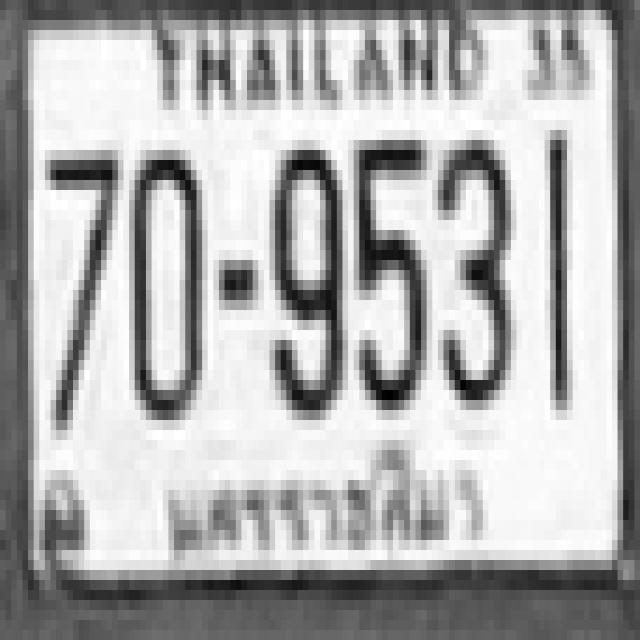0: (126, 140, 200, 410)
1: (545, 125, 567, 405)
3: (432, 130, 511, 400)
5: (351, 135, 424, 405)
7: (45, 140, 118, 420)
9: (270, 140, 342, 410)
NakhonRatchasima: (152, 441, 495, 569)
